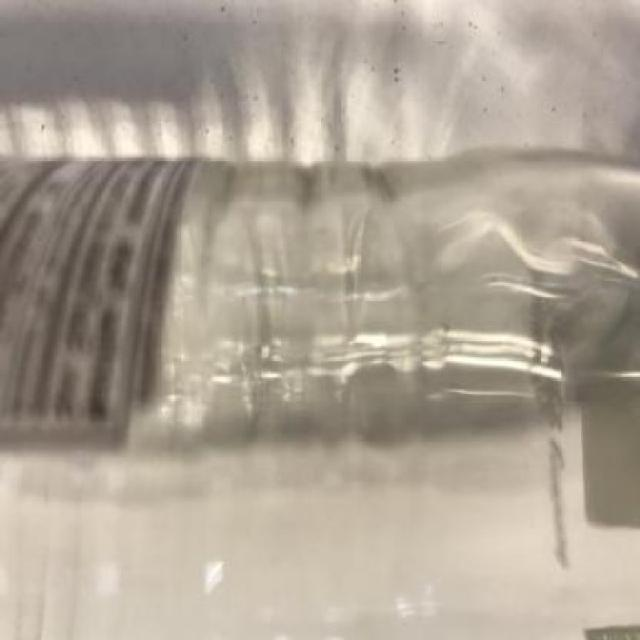GLASS: (0, 158, 638, 639)
PLASTIC: (0, 161, 638, 640)
